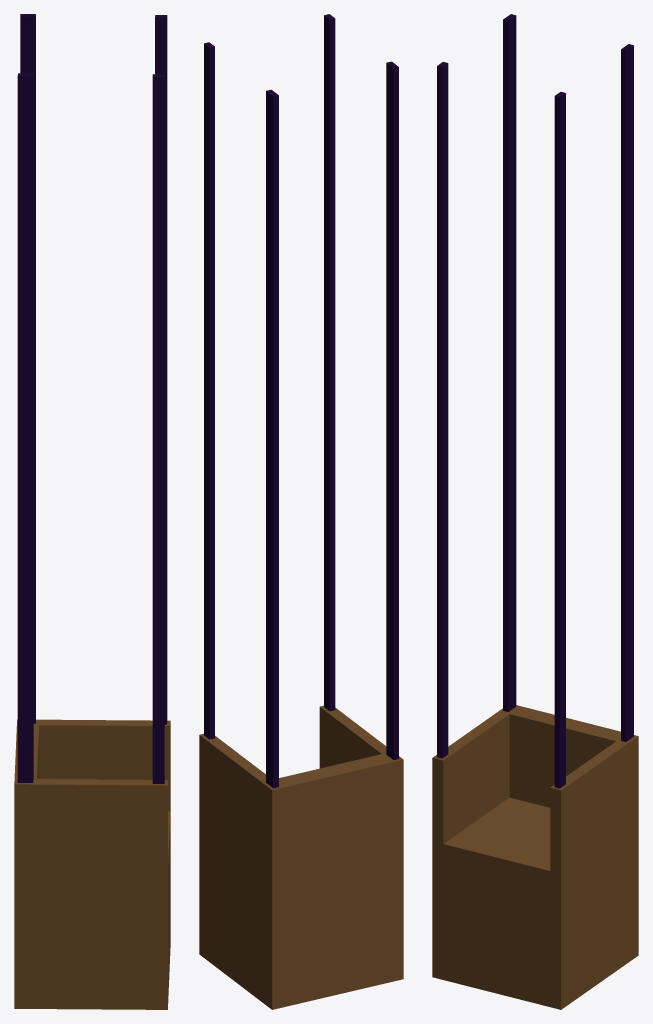
The model's file is Elevator.fbx.
The picture shows the model from 3 angles, left to right: view 1: azimuth 30°, elevation 25°; view 2: azimuth 150°, elevation 25°; view 3: azimuth 270°, elevation 25°; orthographic projection. The views are drawn at different scales.
Parts seen in each view (by area): view 1: Cube.025; view 2: Cube.025; view 3: Cube.025.
Part boxes in pixels (left/top/right/bottom): Cube.025: left=14, top=14, right=170, bottom=1009; Cube.025: left=199, top=14, right=403, bottom=1009; Cube.025: left=432, top=14, right=638, bottom=1009.
Size of the model in its own units: 175 by 855 by 175.
